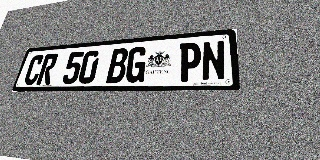0: (77, 50, 100, 84)
5: (61, 51, 85, 84)
B: (106, 48, 129, 83)
C: (22, 54, 45, 85)
G: (124, 46, 148, 83)
N: (201, 40, 226, 81)
P: (178, 42, 201, 82)
R: (36, 53, 59, 85)
